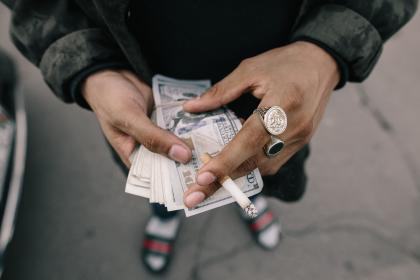cigarette: (199, 152, 261, 220)
